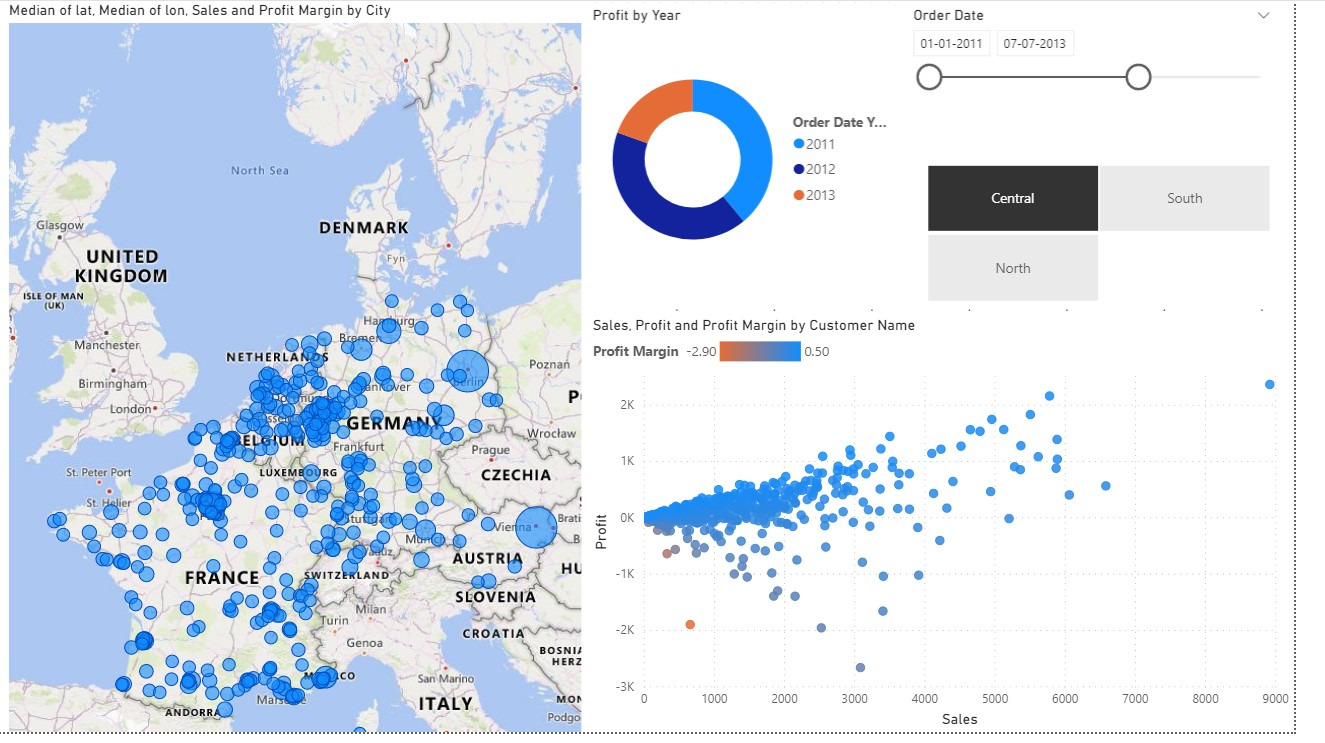

The page's visual inventory and layout, read from the dashboard file:
{"tool":"powerbi","page":{"name":"Page 5","canvas":[1280,720],"ordinal":4},"visuals":[{"type":"scatterChart","fields":{"X":["Sum(OrderBreakdown.Sales)"],"Y":["Sum(OrderBreakdown.Profit)"],"Category":["ListOfOrders.Customer Name"]},"box":[584.2,310.3,695.8,409.7],"z":0},{"type":"map","fields":{"Category":["ListOfOrders.Geography.Country","ListOfOrders.Geography.State","ListOfOrders.Geography.City"],"Y":["Median(ListOfOrders.lat)"],"X":["Median(ListOfOrders.lon)"],"Size":["Sum(OrderBreakdown.Sales)"]},"box":[10.1,0,574.1,1000],"z":1},{"type":"slicer","fields":{"Values":["ListOfOrders.Order Date"]},"box":[892.1,0,377,155.2],"z":2},{"type":"slicer","fields":{"Values":["ListOfOrders.Region"]},"box":[893.3,155.2,386.7,146.7],"z":3},{"type":"donutChart","fields":{"Y":["Sum(OrderBreakdown.Profit)"],"Category":["ListOfOrders.Order Date.Variation.Date Hierarchy.Year","ListOfOrders.Order Date.Variation.Date Hierarchy.Quarter","ListOfOrders.Order Date.Variation.Date Hierarchy.Month","ListOfOrders.Order Date.Variation.Date Hierarchy.Day"]},"box":[584.2,4.8,307.9,286.1],"z":4}]}

Visuals, with their boxes in screenshot pixels (x1, y1, x2, y2), scaled from the page's 1280x720 canvas onto the 1325x743 screenshot:
scatterChart - Sum(OrderBreakdown.Sales) x Sum(OrderBreakdown.Profit): left=605, top=320, right=1324, bottom=742
map - ListOfOrders.Geography.Country x ListOfOrders.Geography.State: left=10, top=0, right=605, bottom=742
slicer - ListOfOrders.Order Date: left=923, top=0, right=1314, bottom=160
slicer - ListOfOrders.Region: left=925, top=160, right=1324, bottom=312
donutChart - Sum(OrderBreakdown.Profit) x ListOfOrders.Order Date.Variation.Date Hierarchy.Year: left=605, top=5, right=923, bottom=300
